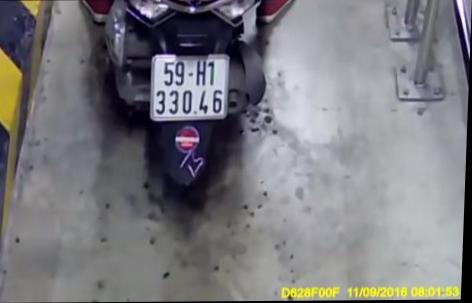LP: (149, 53, 230, 122)
